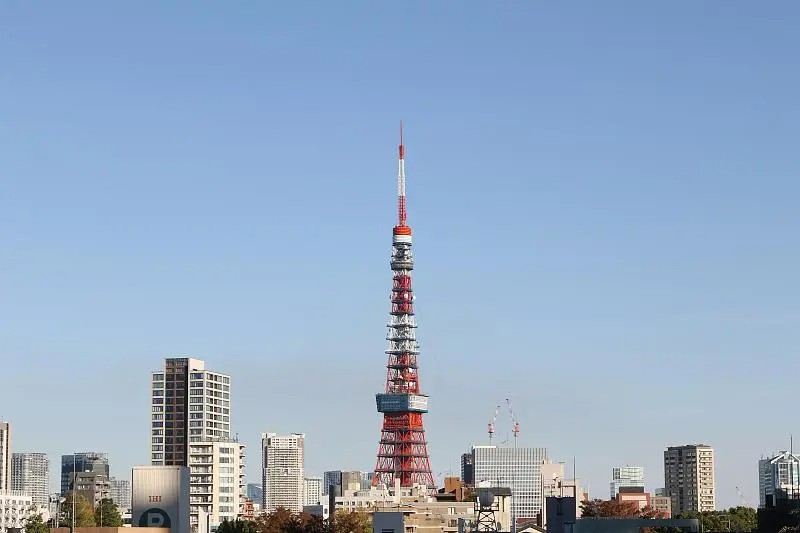Tokyo: (369, 113, 438, 491)
